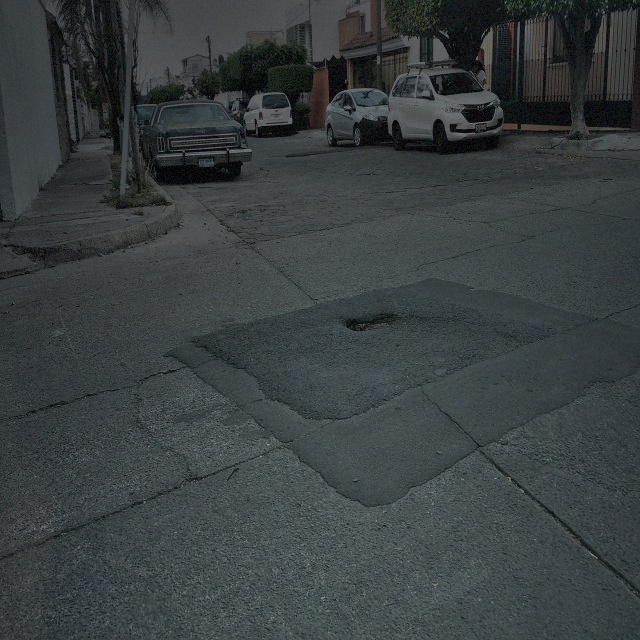pothole: (344, 306, 398, 335)
